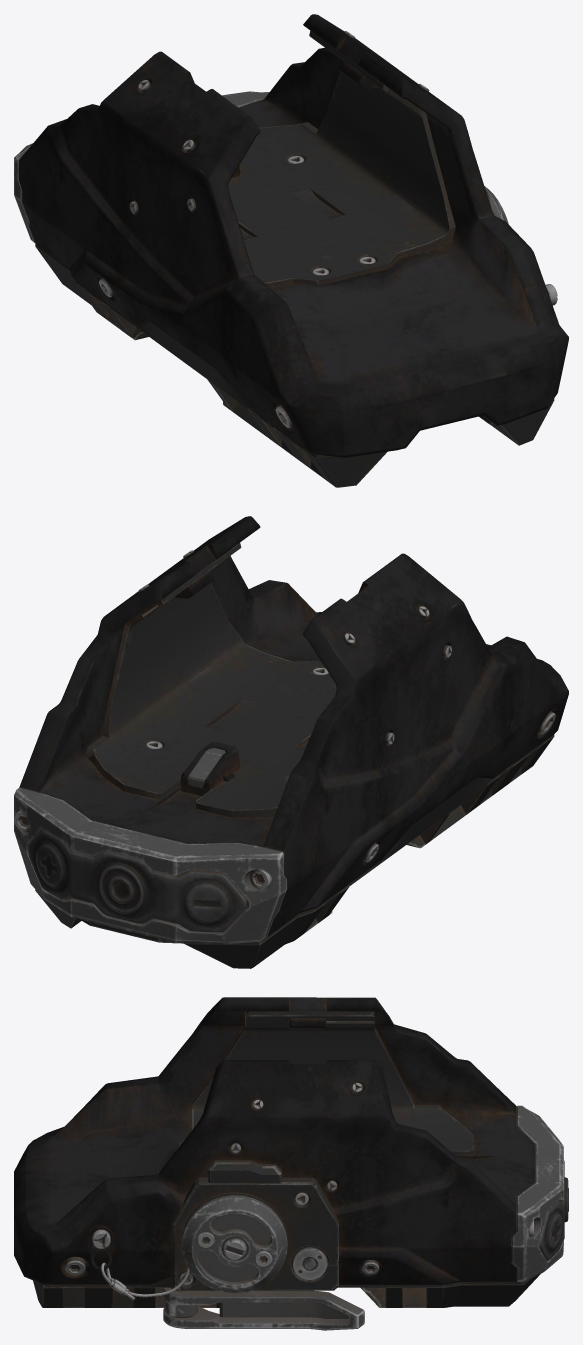
File: Sight_2.glb
The picture shows the model from 3 angles, top to bottom: view 1: azimuth 30°, elevation 25°; view 2: azimuth 150°, elevation 25°; view 3: azimuth 270°, elevation 25°; orthographic projection. The views are drawn at different scales.
Parts seen in each view (by area): view 1: Sight_2; view 2: Sight_2; view 3: Sight_2.
Part boxes in pixels (bbox=[...]): Sight_2: bbox=[14, 14, 568, 487]; Sight_2: bbox=[14, 516, 568, 968]; Sight_2: bbox=[14, 997, 568, 1330].
Size of the model in its own units: 0.0473 by 0.043 by 0.0875.
Materials: 1 (1 with a texture image).
